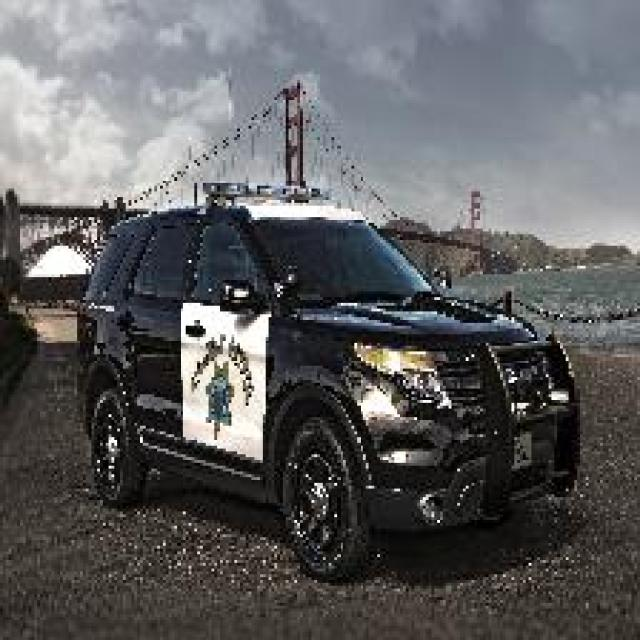Police-car: (74, 180, 580, 583)
